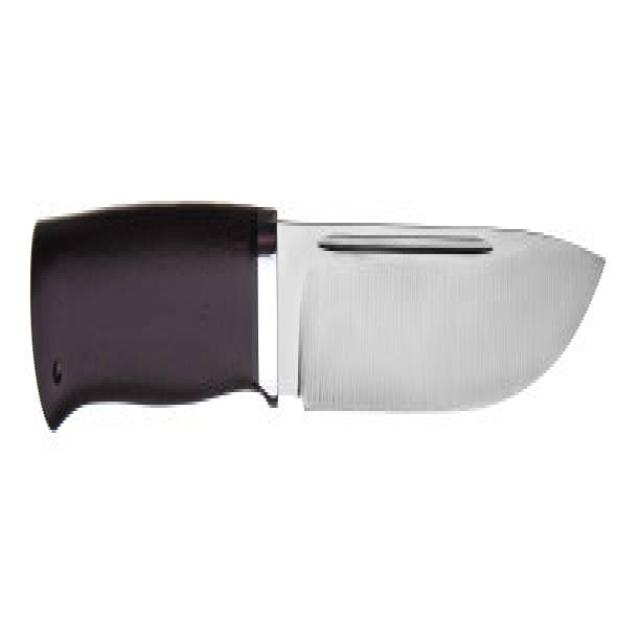knife: (27, 187, 616, 468)
